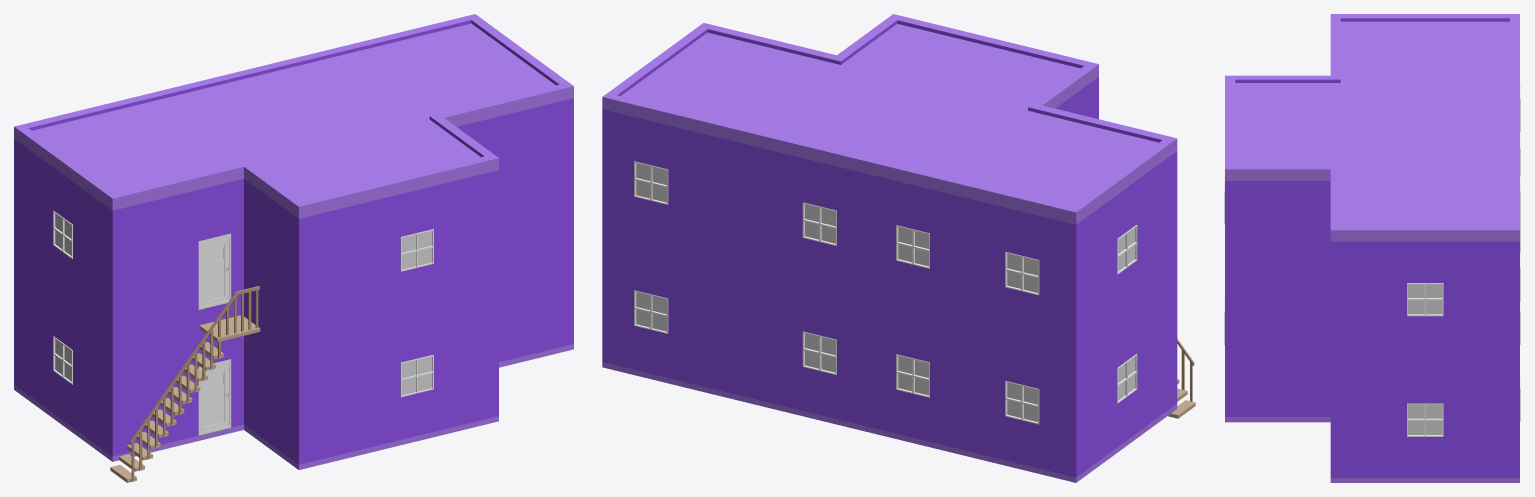
The model's file is House_8.fbx.
3 views of the same model, side by side, from view 1: azimuth 30°, elevation 25°; view 2: azimuth 150°, elevation 25°; view 3: azimuth 270°, elevation 25° (orthographic). The views are drawn at different scales.
Parts seen in each view (by area): view 1: House_8_Body, House_8_Stair, House_8_Door.006, House_8_Door.002, House_8_Window.002, House_8_Window.009; view 2: House_8_Body, House_8_Window.013, House_8_Window.006, House_8_Window.005, House_8_Window.012, House_8_Window.003, House_8_Window.004, House_8_Window.010, House_8_Window.011, House_8_Stair; view 3: House_8_Body, House_8_Window.001, House_8_Window.008.
Part boxes in pixels (bbox=[...]): House_8_Body: bbox=[14, 14, 573, 469]; House_8_Stair: bbox=[110, 286, 260, 482]; House_8_Door.006: bbox=[198, 233, 231, 309]; House_8_Door.002: bbox=[198, 359, 231, 434]; House_8_Window.002: bbox=[402, 356, 432, 395]; House_8_Window.009: bbox=[402, 231, 432, 269]; House_8_Body: bbox=[602, 14, 1177, 482]; House_8_Window.013: bbox=[636, 163, 666, 202]; House_8_Window.006: bbox=[636, 292, 666, 331]; House_8_Window.005: bbox=[805, 333, 835, 372]; House_8_Window.012: bbox=[805, 204, 835, 243]; House_8_Window.003: bbox=[1007, 382, 1037, 421]; House_8_Window.004: bbox=[898, 356, 928, 395]; House_8_Window.010: bbox=[1007, 253, 1037, 292]; House_8_Window.011: bbox=[898, 227, 928, 266]; House_8_Stair: bbox=[1168, 338, 1195, 418]; House_8_Body: bbox=[1224, 14, 1520, 482]; House_8_Window.001: bbox=[1408, 404, 1442, 434]; House_8_Window.008: bbox=[1408, 284, 1442, 314].
Bounding box in the file's own units: 1412 × 792 × 814.
